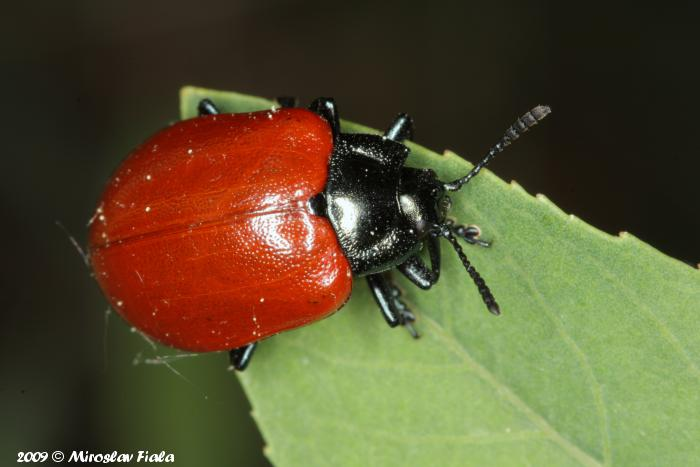Chrysomela_populi: (73, 76, 574, 379)
